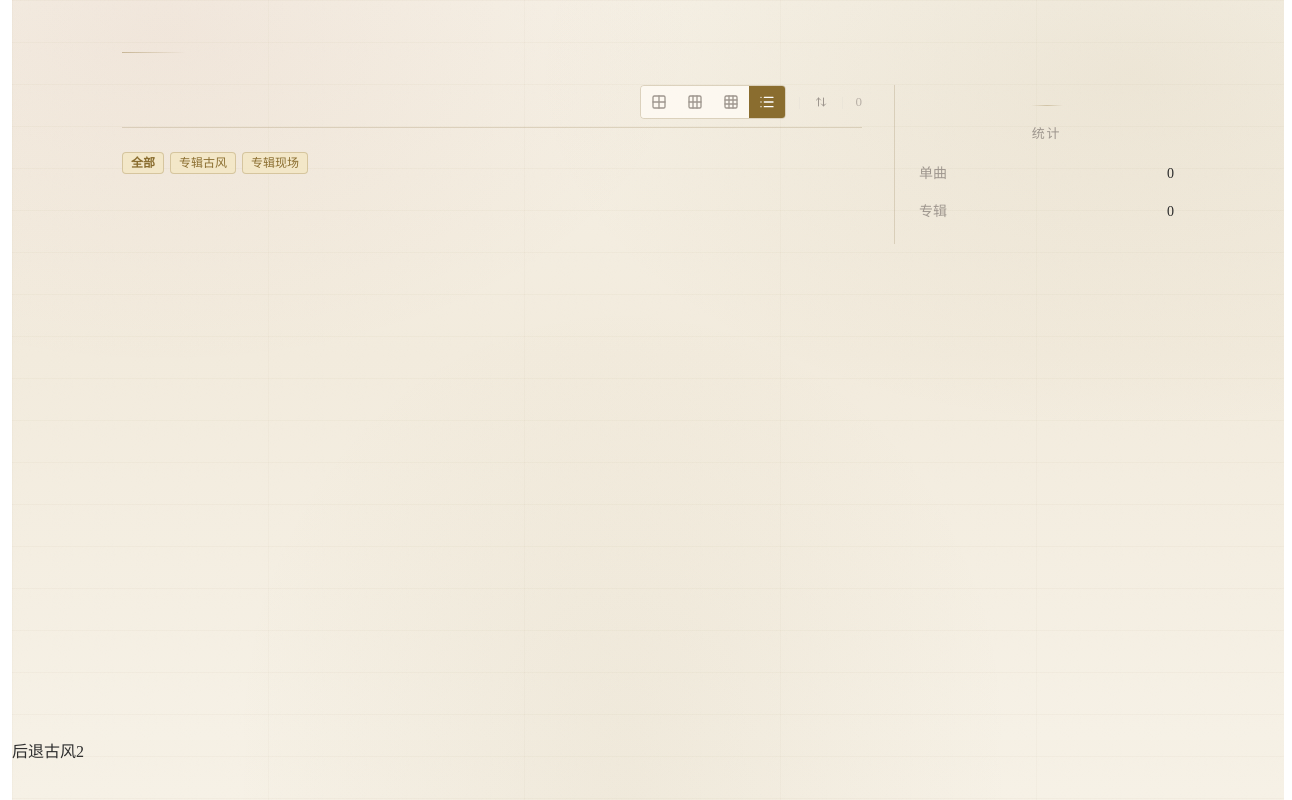
Test: 音乐列表页标签按钮 › 专辑标签独立筛选并重置专辑页
This screenshot has width=1292, height=800.
Click the button "专辑古风": (203, 163) top-left (170, 152), bottom-right (236, 174)
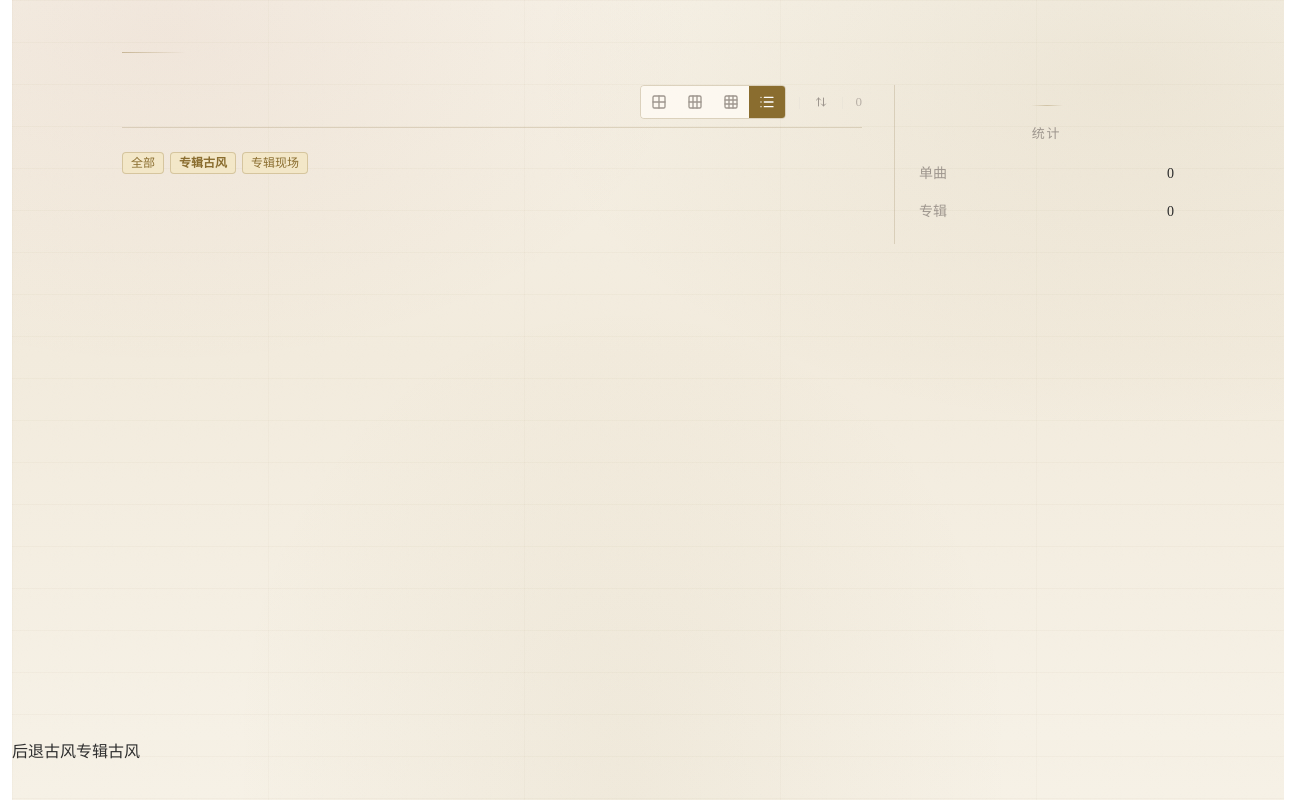
Expected: the text with test id "url" reads "古风", top-left (44, 743), bottom-right (76, 760)
Expected: the text with test id "album-url" reads "专辑古风", top-left (76, 743), bottom-right (140, 760)
